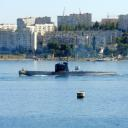submarine: (19, 65, 119, 77)
